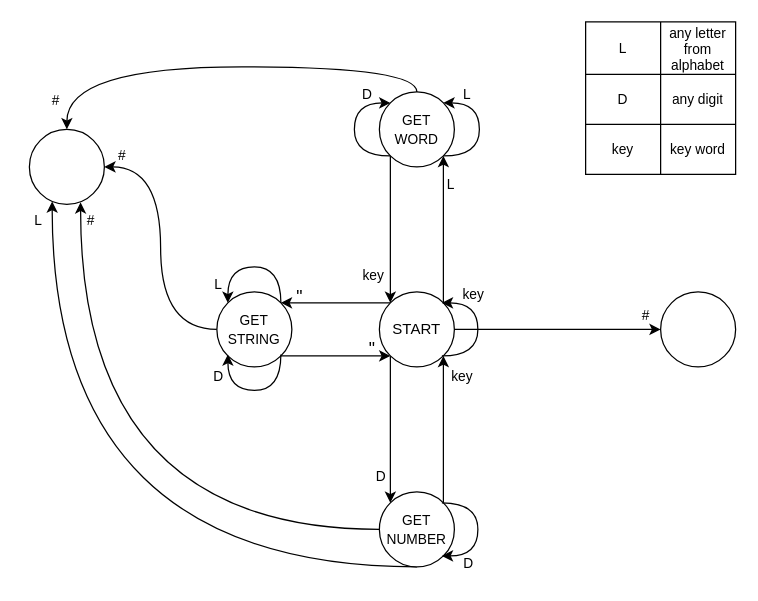
The diagram is 758 pixels wide and 601 high, and some of its shapes have lost their labels. Each missing label, with the centre of its shape:
"COMPLETE" goes at (697,329).
"ERROR" goes at (66,166).
